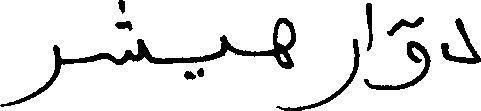X: (0, 40, 60, 110), (109, 0, 143, 69), (326, 34, 357, 107), (442, 13, 480, 68), (273, 13, 294, 110), (407, 12, 429, 92), (365, 0, 370, 92), (218, 30, 227, 62)
